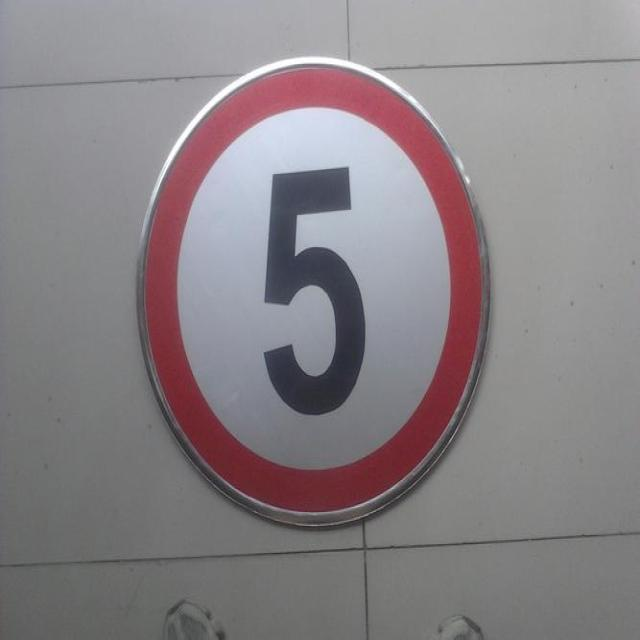speed limit 10: (135, 59, 491, 527)
